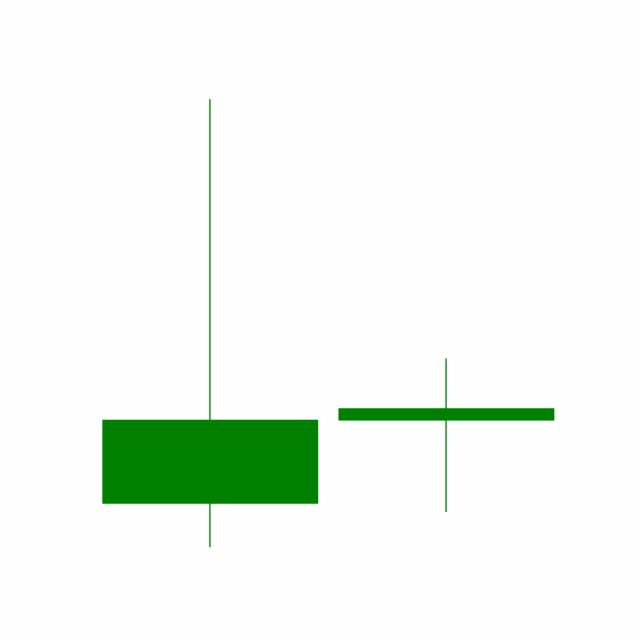Spinning Top: (327, 356, 565, 514)
